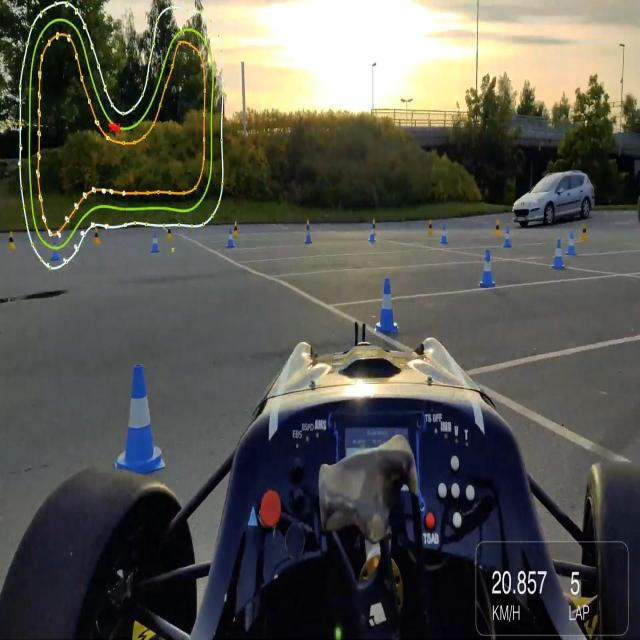blue_cone: (111, 362, 166, 477), (372, 270, 404, 336), (476, 244, 497, 289), (552, 237, 566, 274), (566, 230, 577, 258), (503, 226, 513, 252), (50, 237, 60, 261), (150, 231, 160, 254), (439, 224, 449, 246), (226, 228, 235, 248), (305, 226, 312, 246), (369, 227, 375, 243)
yellow_cone: (8, 230, 18, 253), (494, 217, 502, 239), (426, 217, 434, 237), (93, 226, 100, 246), (582, 223, 588, 241), (166, 227, 173, 242), (372, 219, 377, 235), (234, 222, 239, 238), (306, 220, 310, 225)
